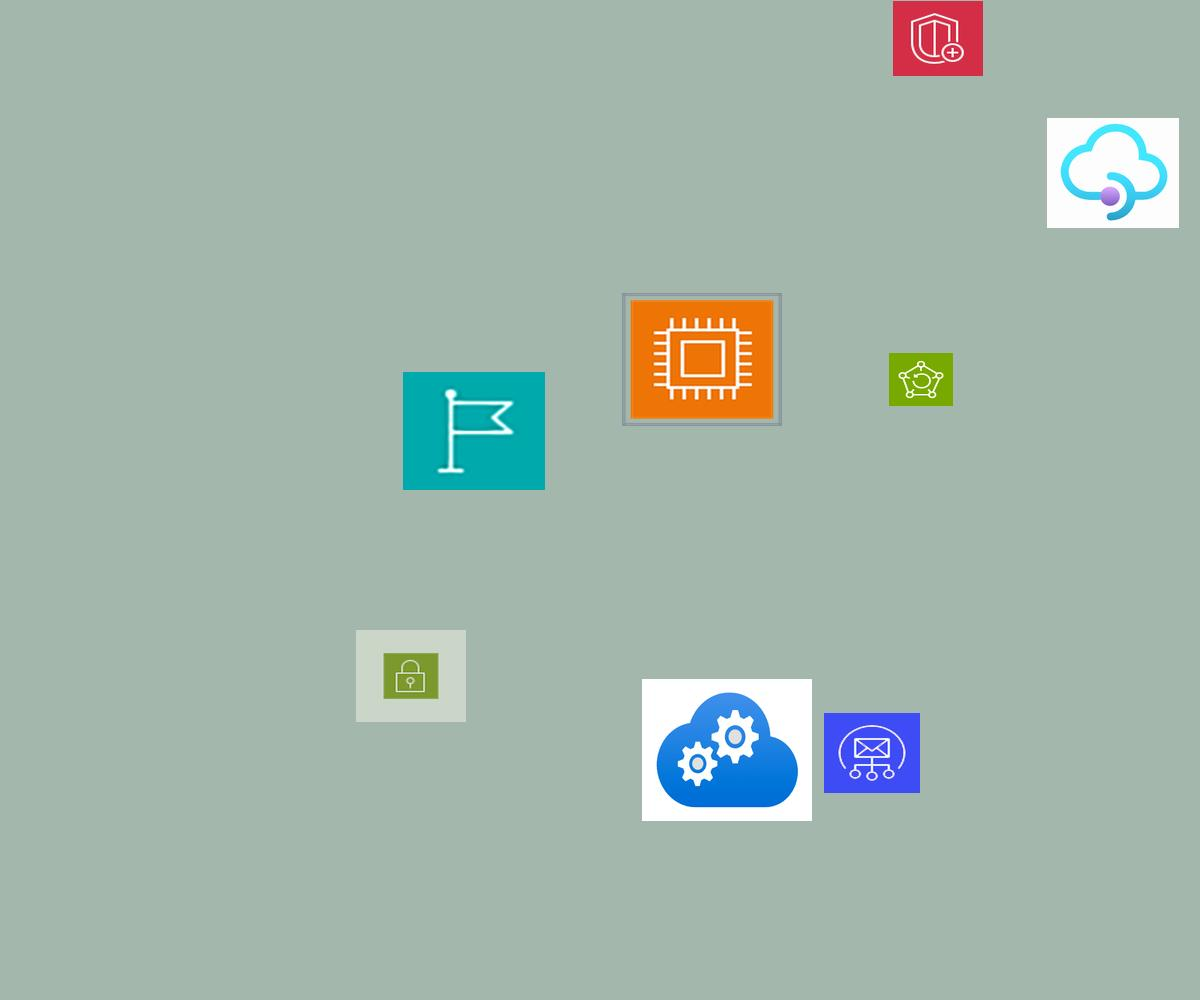AWS-Backup: (889, 353, 953, 406)
AWS-Category_Compute: (622, 293, 782, 426)
AWS-Public-subnet: (356, 630, 466, 722)
AWS-Region: (403, 372, 545, 490)
AWS-Shield: (893, 1, 983, 76)
AWS-Simple-Email-Service: (824, 713, 920, 793)
Azure_api_gateway: (1047, 118, 1179, 228)
Azure_cloud_services: (642, 679, 812, 821)
